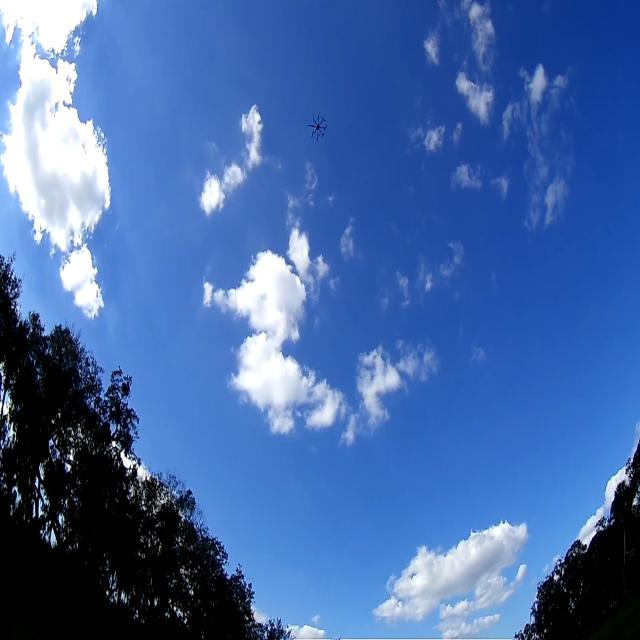drone: (308, 100, 333, 147)
